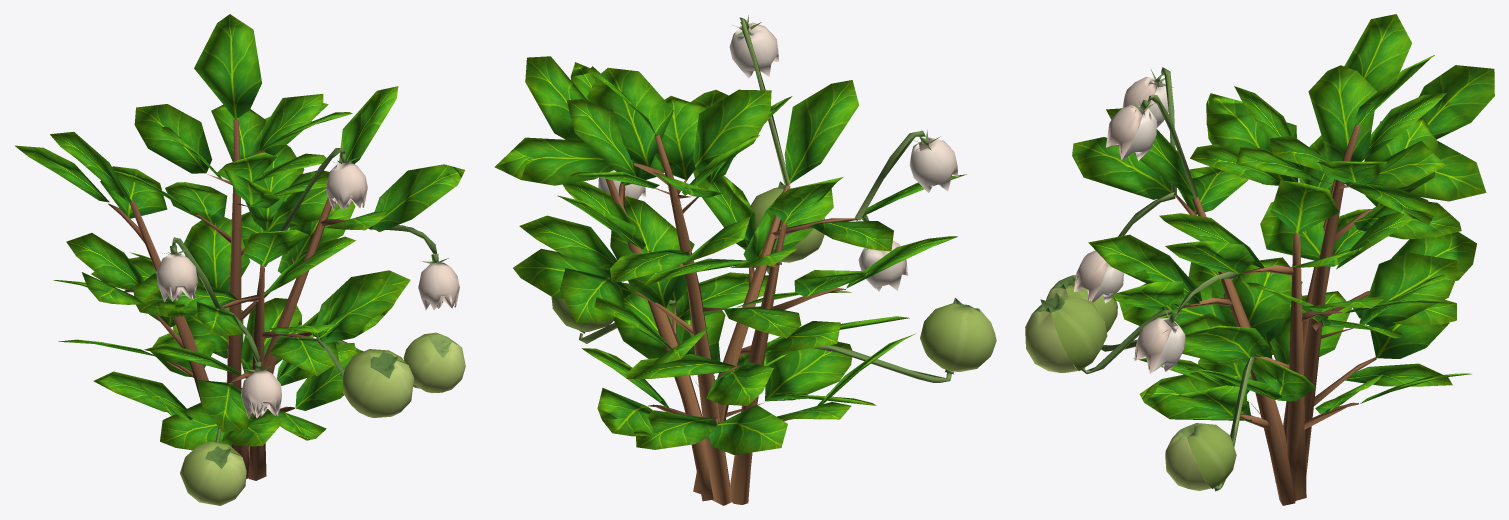
The model's file is NP_Blueberry_Flowering_LOD1.fbx.
3 renders of one model, left to right at view 1: azimuth 30°, elevation 25°; view 2: azimuth 150°, elevation 25°; view 3: azimuth 270°, elevation 25°, orthographic. The views are drawn at different scales.
Parts seen in each view (by area): view 1: NP_Blueberry_Flowering; view 2: NP_Blueberry_Flowering; view 3: NP_Blueberry_Flowering.
Part boxes in pixels (bbox=[...]): NP_Blueberry_Flowering: bbox=[15, 14, 465, 505]; NP_Blueberry_Flowering: bbox=[494, 15, 996, 505]; NP_Blueberry_Flowering: bbox=[1025, 14, 1494, 505].
Size of the model in its own units: 66.98 by 72.77 by 66.16.
